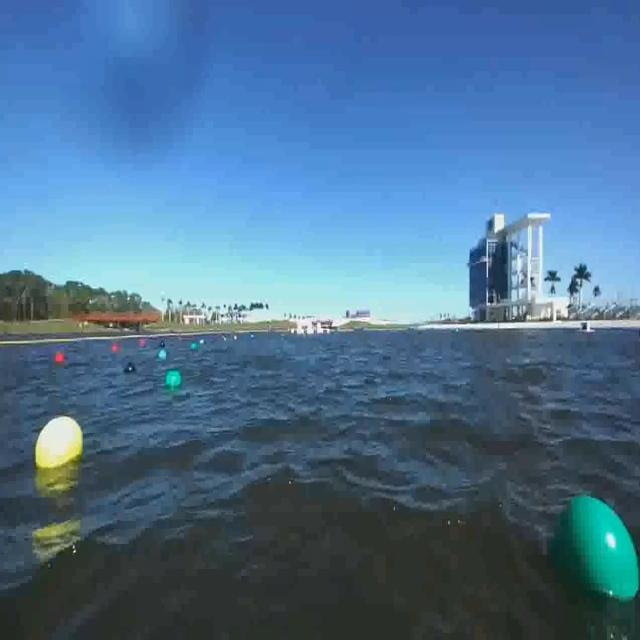black-buoy: (125, 362, 138, 374)
green-buoy: (533, 486, 638, 620), (166, 371, 183, 391)
red-buoy: (57, 353, 66, 364)
yellow-buoy: (36, 416, 84, 473)
